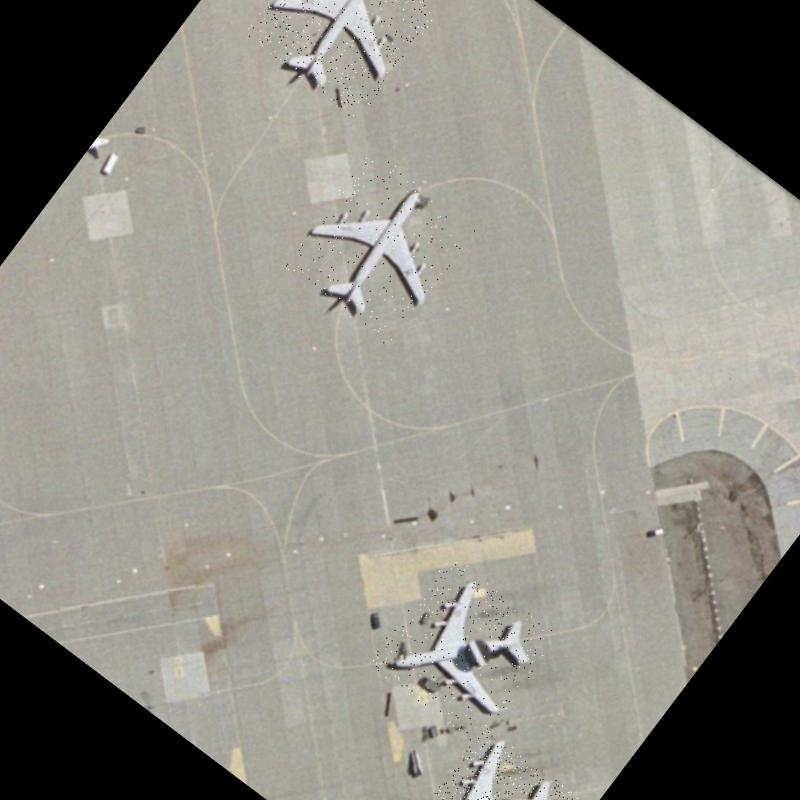A11: (280, 147, 478, 348), (242, 0, 442, 122)
A7: (366, 552, 561, 748), (407, 726, 585, 800)
